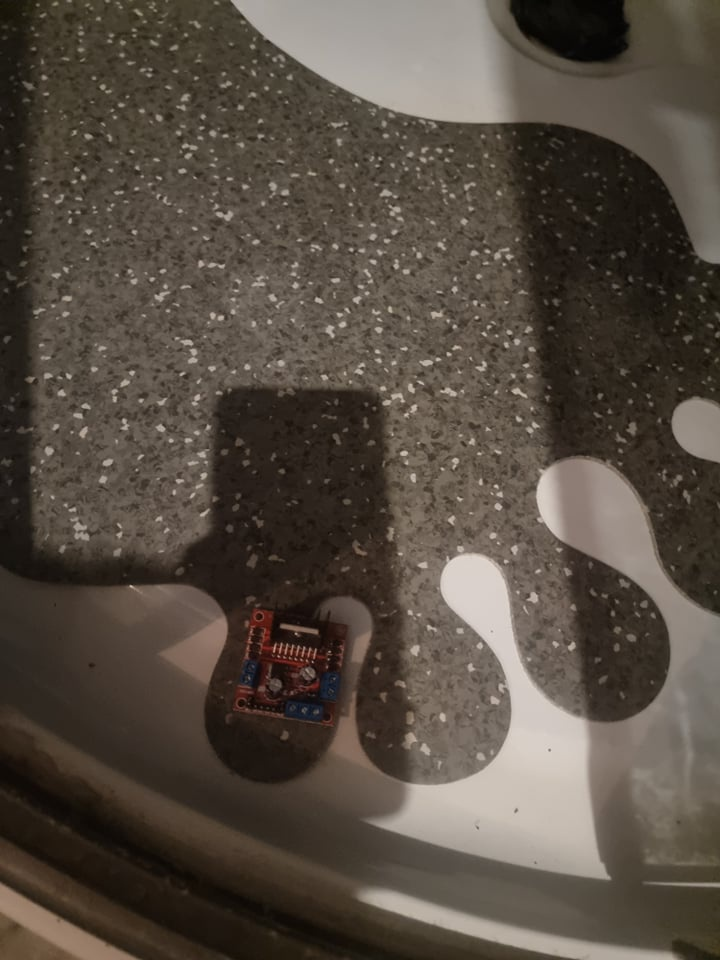MOTOR: (229, 602, 350, 729)
